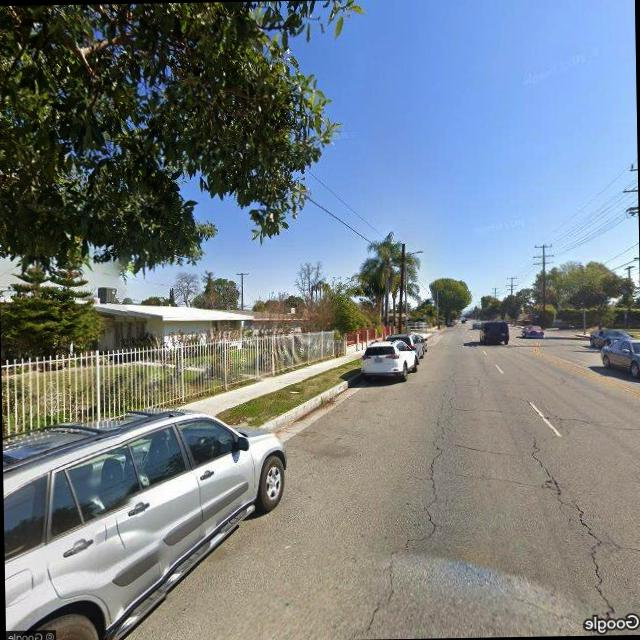pothole: (373, 376, 462, 637), (518, 408, 620, 624)
